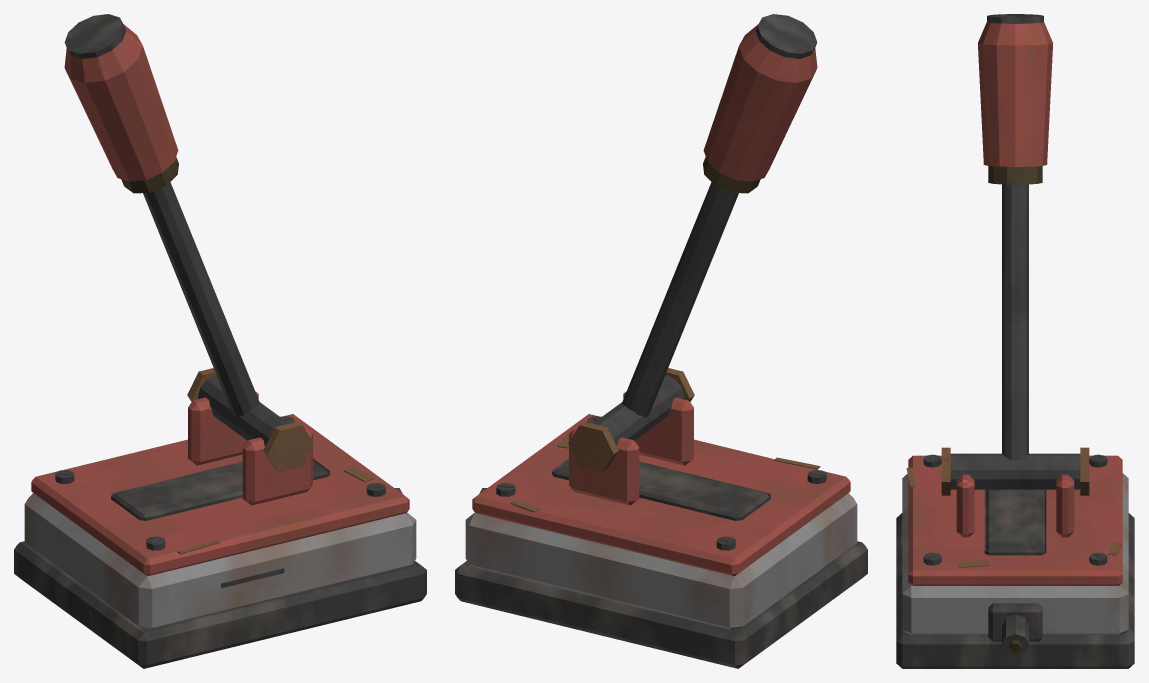
Rendered from P21_red_switch_lever.glb.
The picture shows the model from 3 angles, left to right: view 1: azimuth 30°, elevation 25°; view 2: azimuth 150°, elevation 25°; view 3: azimuth 270°, elevation 25°; orthographic projection. The views are drawn at different scales.
Parts seen in each view (by area): view 1: Enclosure foot; view 2: Enclosure foot; view 3: Enclosure foot.
Boxes of the visible parts, left/top/right/bottom form: Enclosure foot: left=14, top=14, right=426, bottom=668; Enclosure foot: left=455, top=14, right=867, bottom=668; Enclosure foot: left=896, top=14, right=1134, bottom=668.
Bounding box in the file's own units: 0.2335 × 0.4 × 0.1586.
6 materials, 6 textured.
